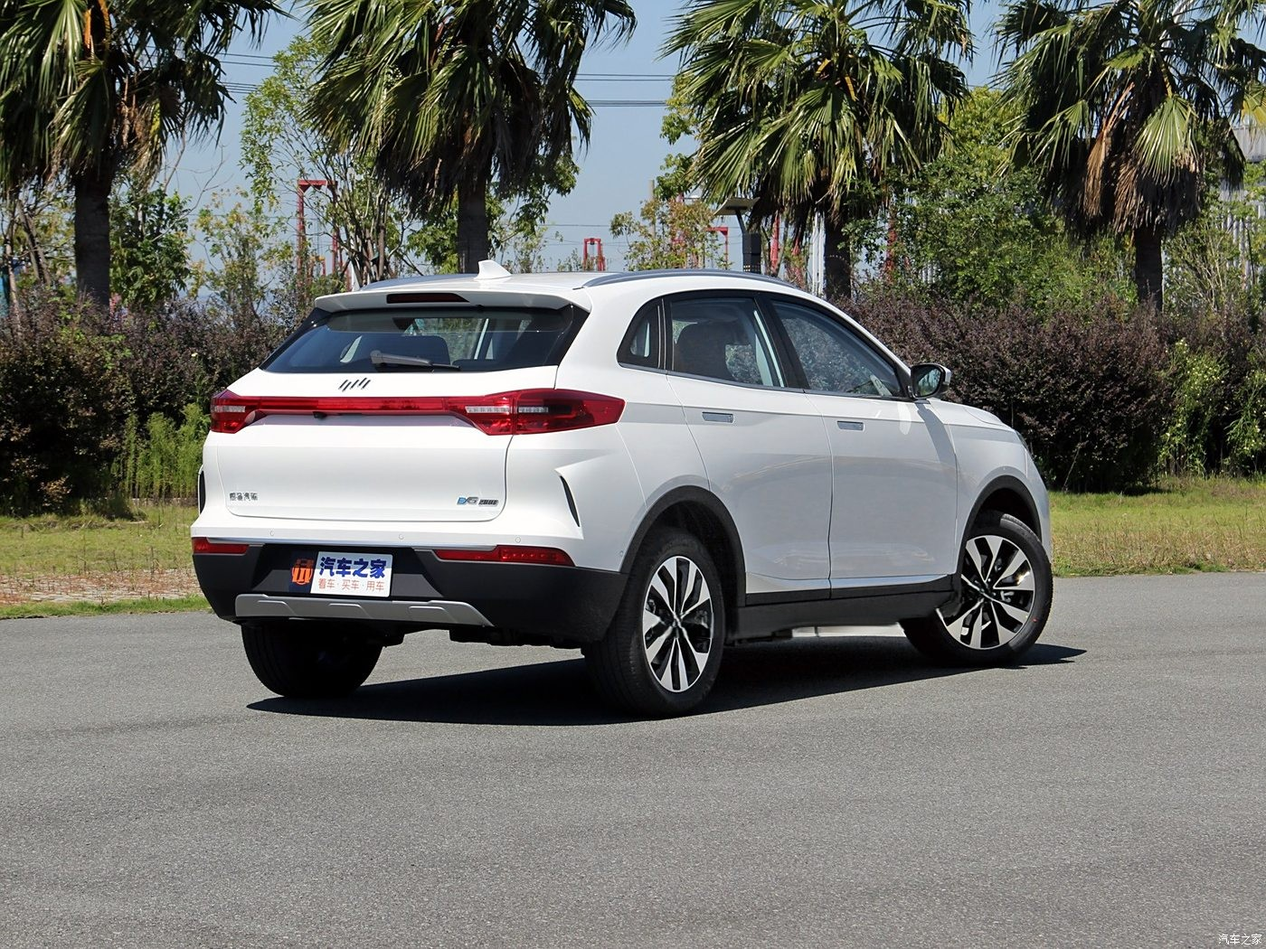WELTMEISTER: (339, 378, 370, 391)
